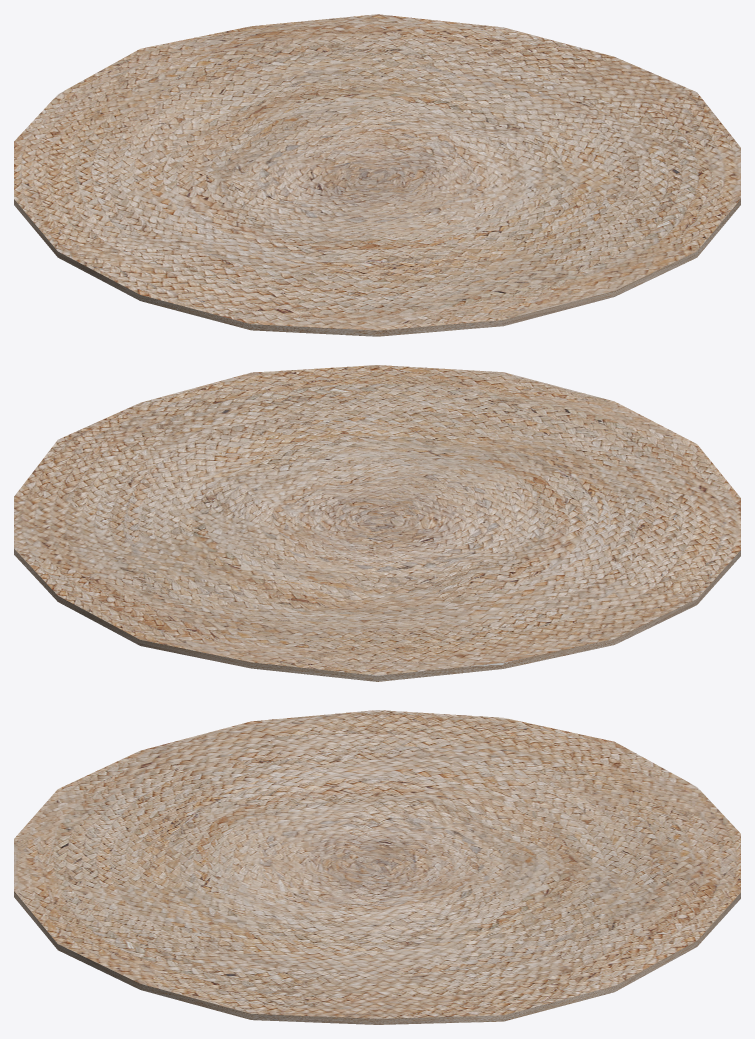
File: Carpet 2.FBX
3 renders of one model, top to bottom at view 1: azimuth 30°, elevation 25°; view 2: azimuth 150°, elevation 25°; view 3: azimuth 270°, elevation 25°, orthographic.
Visible parts, largest first — view 1: carpet 2; view 2: carpet 2; view 3: carpet 2.
Part boxes in pixels (box(x1,y1,x2,y2)): carpet 2: box(14, 14, 740, 336); carpet 2: box(14, 365, 740, 681); carpet 2: box(14, 710, 740, 1024).
Bounding box in the file's own units: 188 × 5.66 × 185.
Materials: 1 (1 with a texture image).
